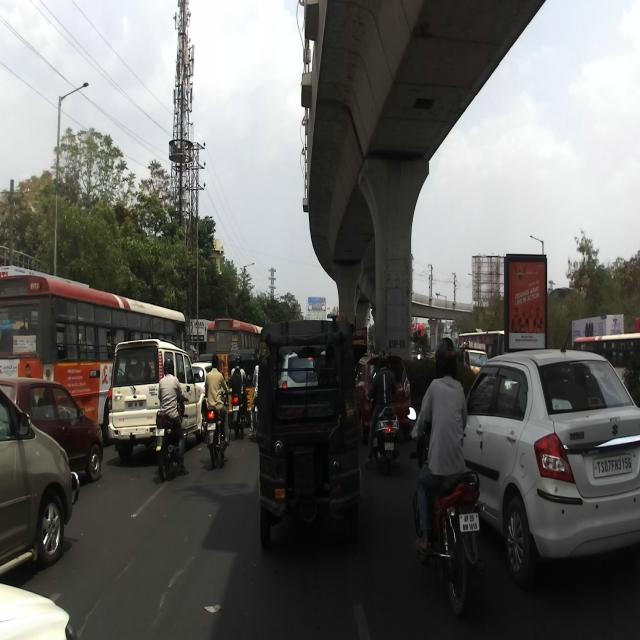autorickshaw: (255, 310, 366, 551)
bus: (0, 263, 185, 449)
car: (460, 332, 640, 584), (0, 381, 81, 579), (107, 336, 203, 461), (1, 374, 106, 486), (355, 354, 413, 437)
motorcycle: (406, 405, 480, 616), (152, 384, 190, 481), (201, 386, 235, 468)
scooter: (368, 375, 403, 485)
